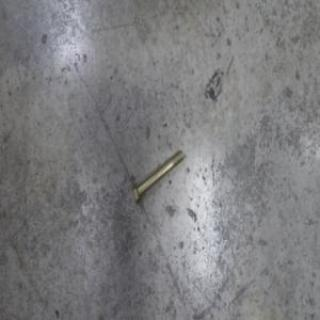Bolttrack_idkeyframe: (131, 145, 184, 206)
